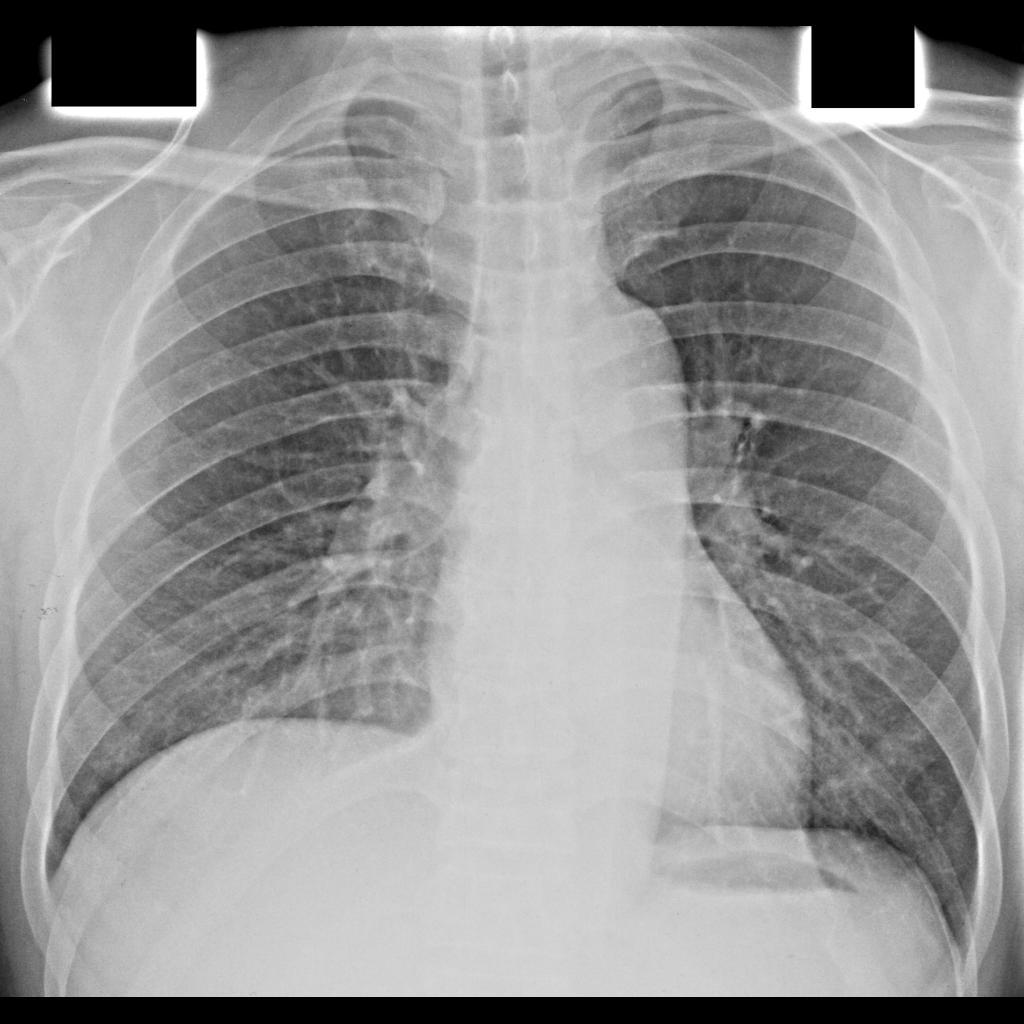Nodule: (343, 196, 376, 229)
